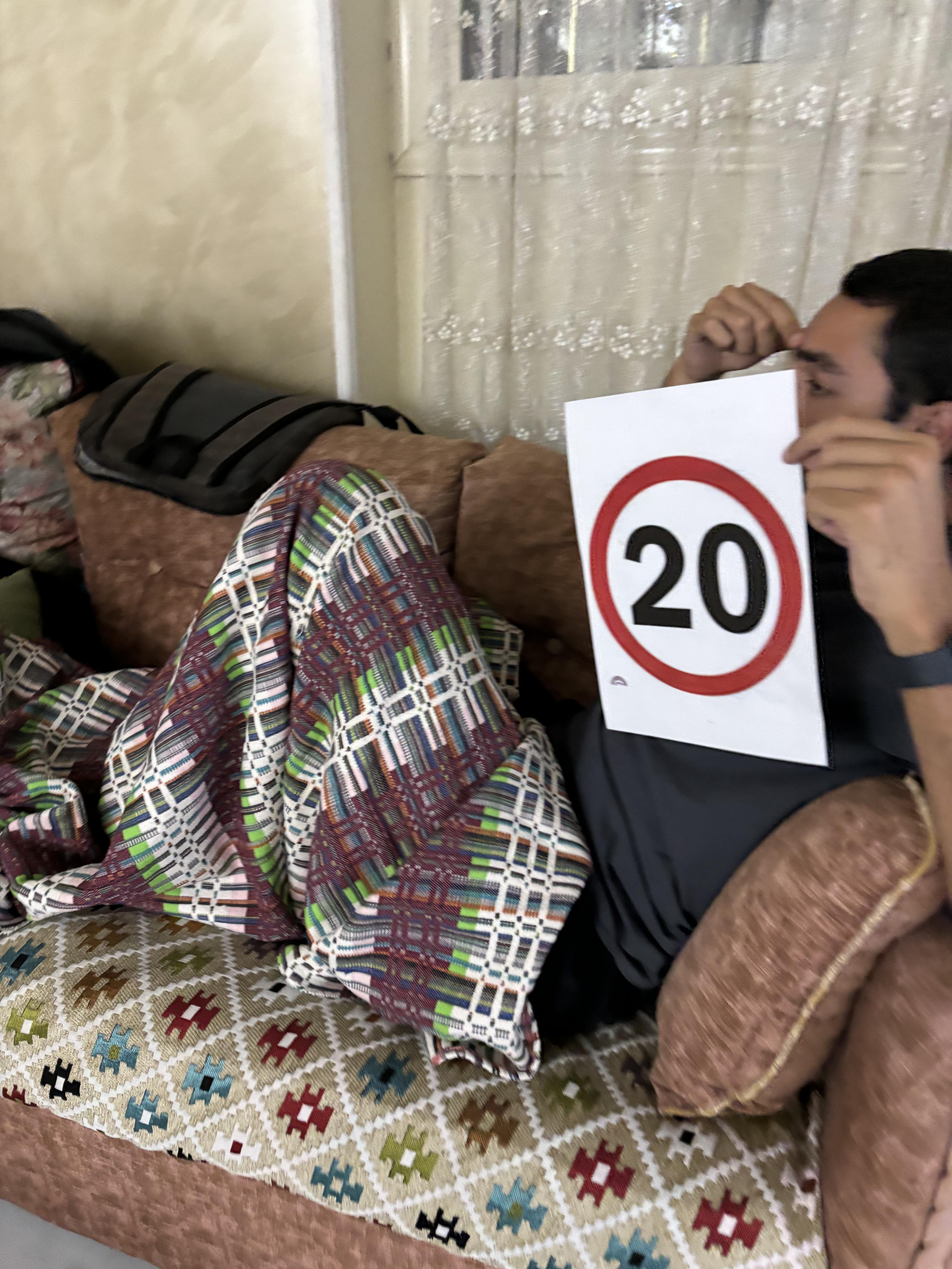20-Speed: (580, 449, 804, 696)
